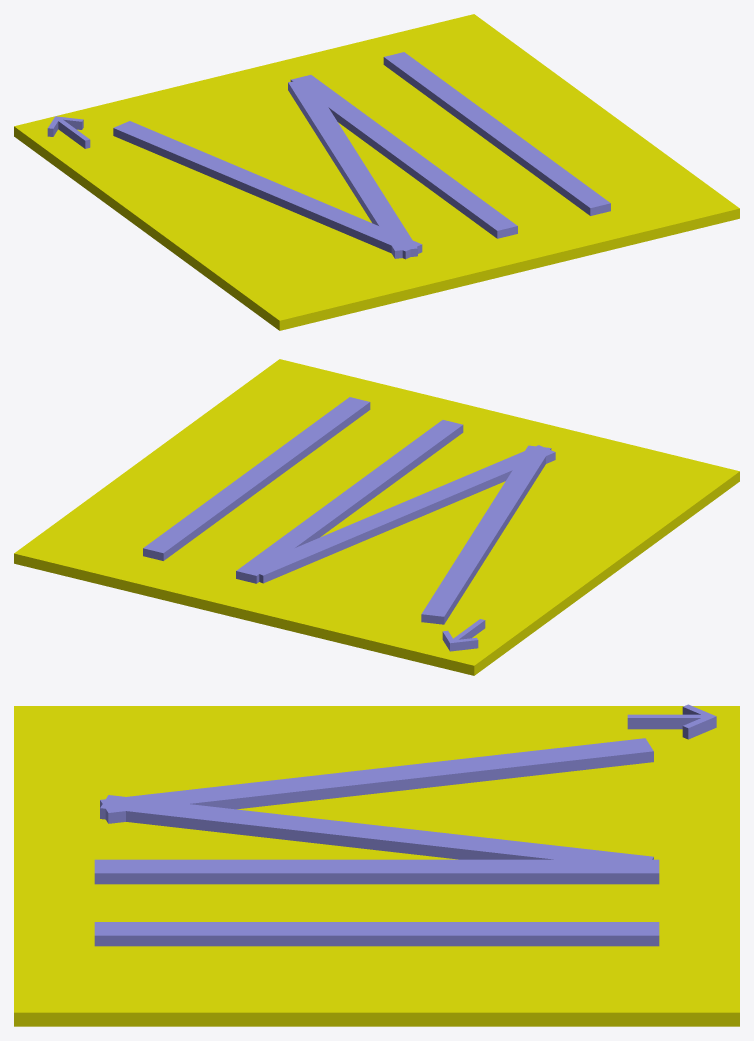
Rendered from mark_7.fbx.
3 views of the same model, one above another, from view 1: azimuth 30°, elevation 25°; view 2: azimuth 150°, elevation 25°; view 3: azimuth 270°, elevation 25° (orthographic). The views are drawn at different scales.
Parts seen in each view (by area): view 1: pCube3, pCube9, pCube10, pCube4, pCube8; view 2: pCube3, pCube8, pCube10, pCube4, pCube9; view 3: pCube3, pCube4, pCube10, pCube9, pCube8, pCube7.
Part boxes in pixels (box(x1,y1,x2,y2)): pCube3: box(14, 14, 739, 330); pCube9: box(113, 121, 422, 259); pCube10: box(383, 52, 610, 215); pCube4: box(290, 75, 517, 238); pCube8: box(288, 80, 417, 258); pCube3: box(14, 359, 739, 675); pCube8: box(259, 445, 555, 583); pCube10: box(143, 397, 370, 560); pCube4: box(236, 420, 463, 583); pCube9: box(421, 445, 551, 624); pCube3: box(14, 706, 739, 1026); pCube4: box(94, 859, 659, 884); pCube10: box(94, 922, 659, 946); pCube9: box(100, 738, 653, 823); pCube8: box(100, 795, 653, 869); pCube7: box(627, 714, 704, 729).
Bounding box in the file's own units: 0.9 × 0.0345 × 0.9.
